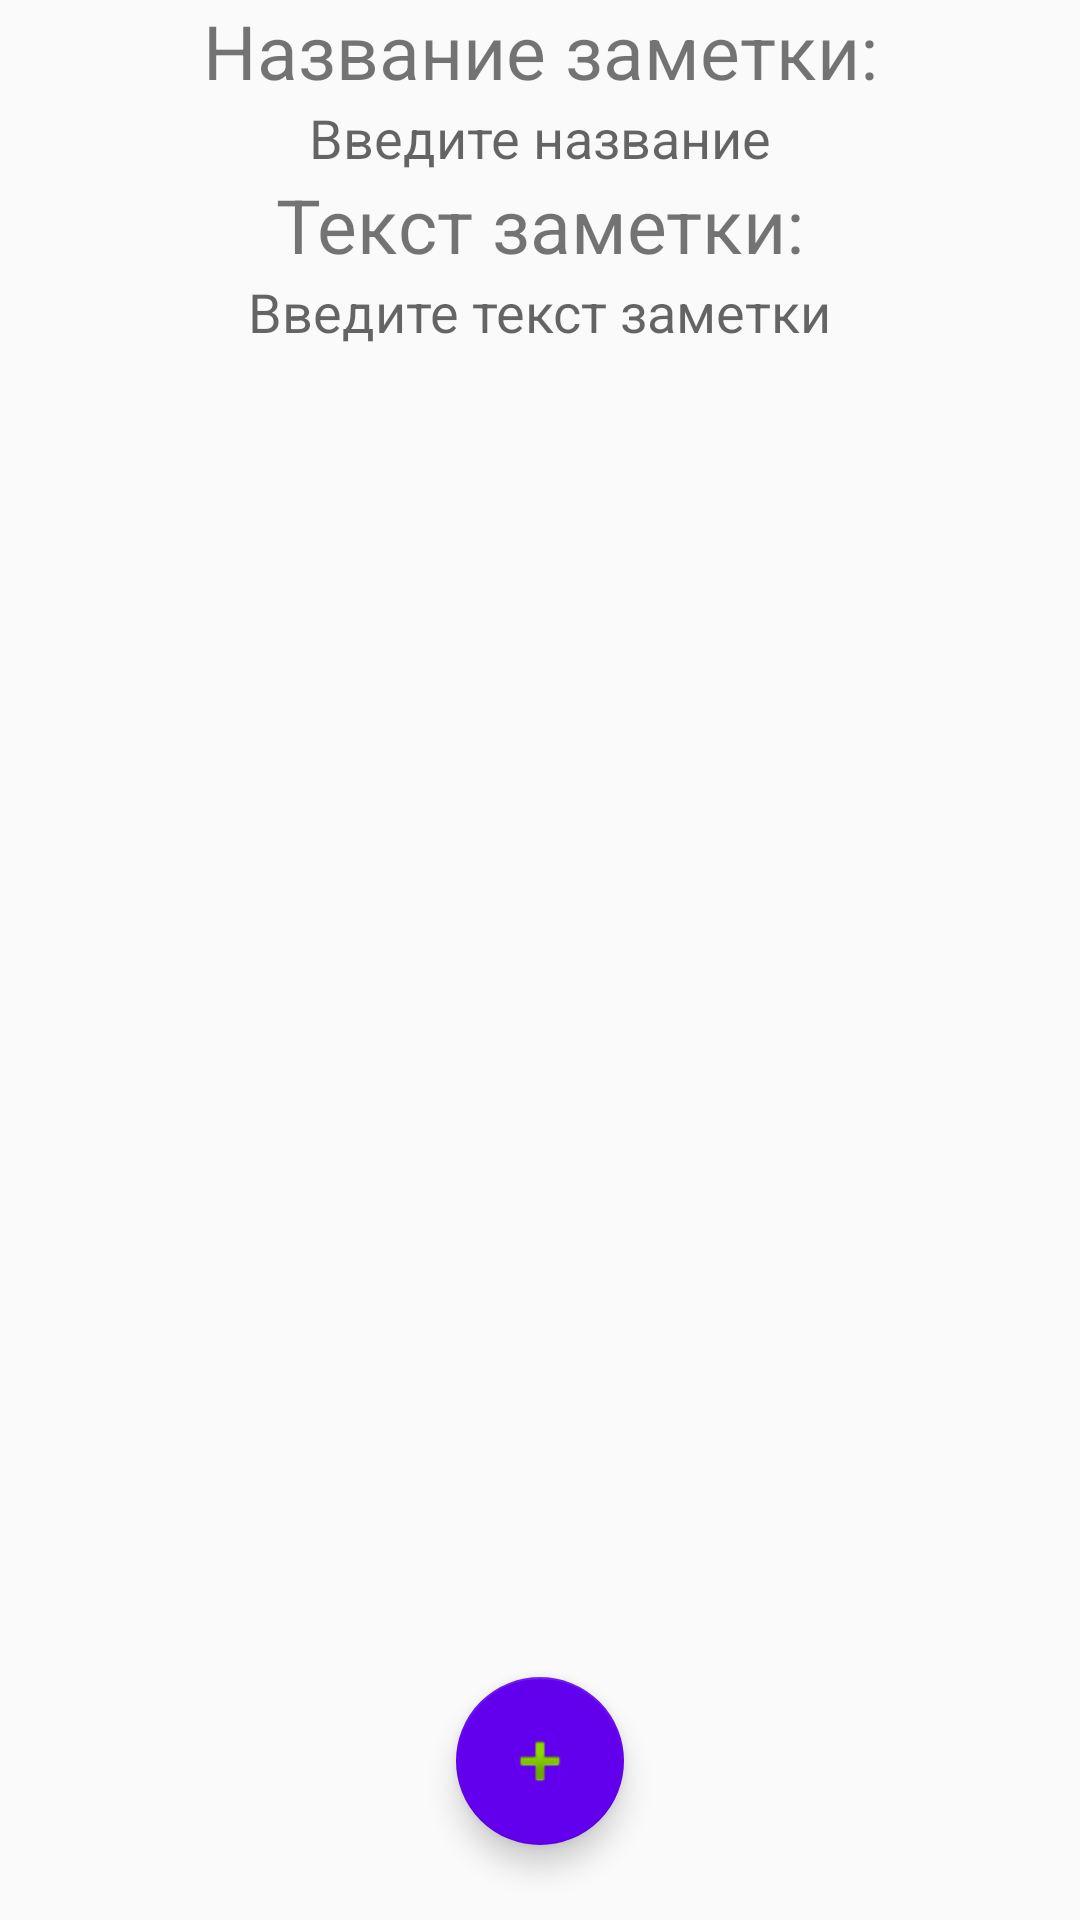

Named icons in this screenshot (1080px×1920px) and their centers, (x,y):
add: (540,1761)
